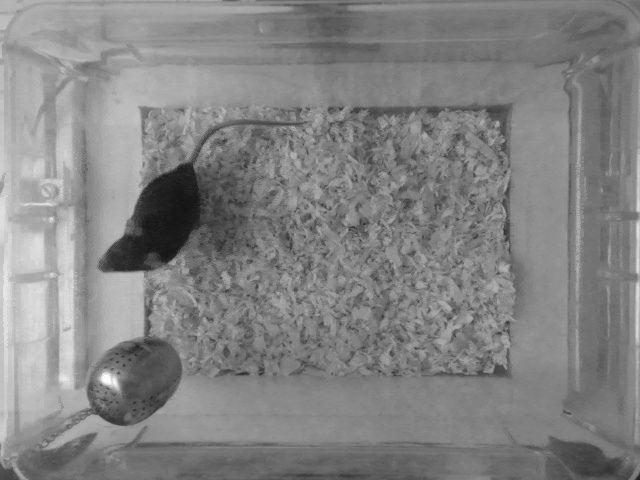mice: (91, 118, 308, 276)
